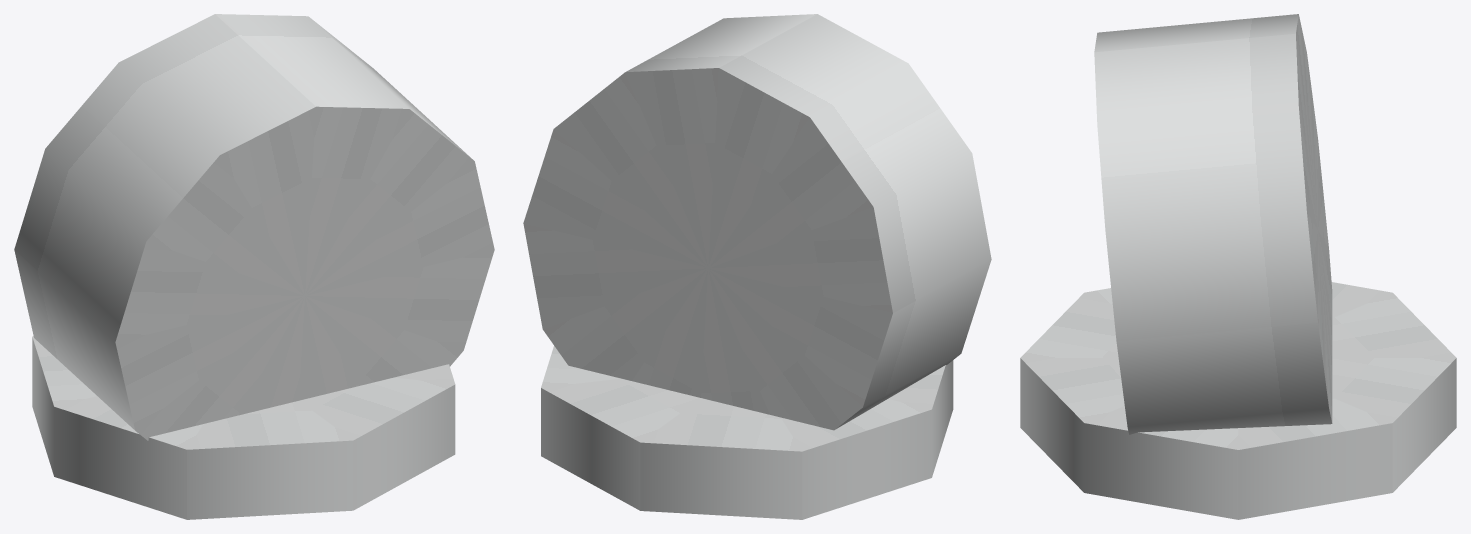
The model's file is trusssignalarm_stub_35.obj.
3 renders of one model, left to right at view 1: azimuth 30°, elevation 25°; view 2: azimuth 150°, elevation 25°; view 3: azimuth 270°, elevation 25°, orthographic. The views are drawn at different scales.
Visible parts, largest first — view 1: trusssignalarm_stub_35; view 2: trusssignalarm_stub_35; view 3: trusssignalarm_stub_35.
Part boxes in pixels (x1,y1,x2,y2): trusssignalarm_stub_35: (14,14,494,519); trusssignalarm_stub_35: (523,14,991,519); trusssignalarm_stub_35: (1020,14,1456,519).
Bounding box in the file's own units: 0.35 × 0.3647 × 0.35.
